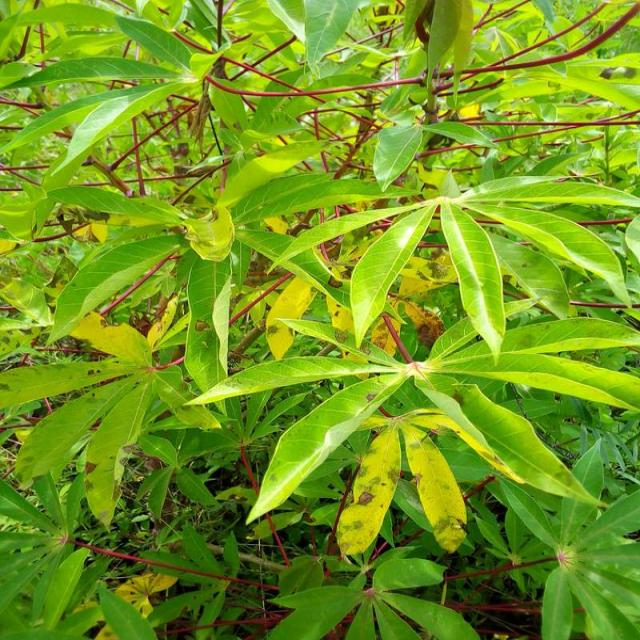cassava leaf: (246, 369, 408, 525), (350, 196, 440, 349), (440, 196, 507, 364)
